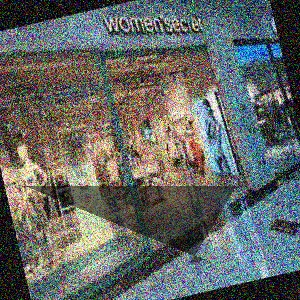women_secret: (157, 0, 256, 3)
